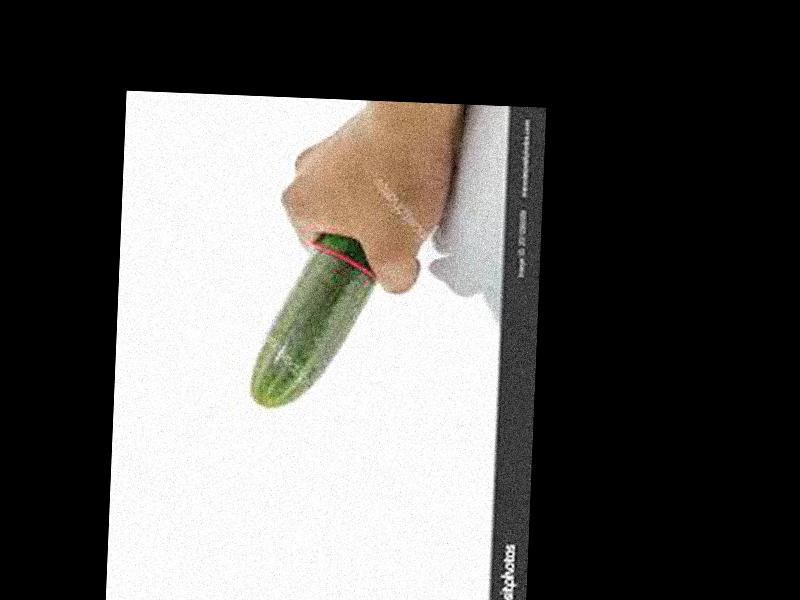Cucumber: (249, 230, 376, 412)
